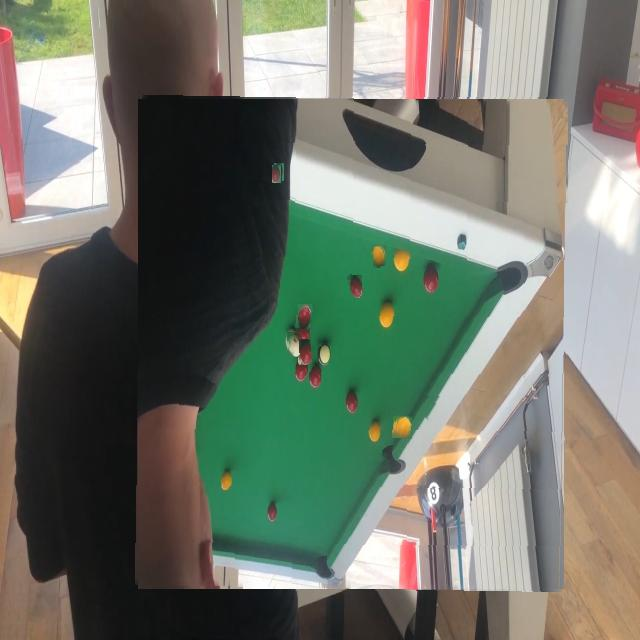Ball: (382, 360, 398, 388), (426, 396, 441, 424), (297, 304, 313, 330), (395, 416, 412, 439), (320, 322, 335, 346), (311, 299, 327, 321), (288, 334, 302, 357), (349, 275, 363, 298), (372, 245, 386, 268), (300, 340, 312, 365), (225, 195, 238, 214), (274, 165, 284, 183)
Billiard table: (138, 97, 568, 591)
